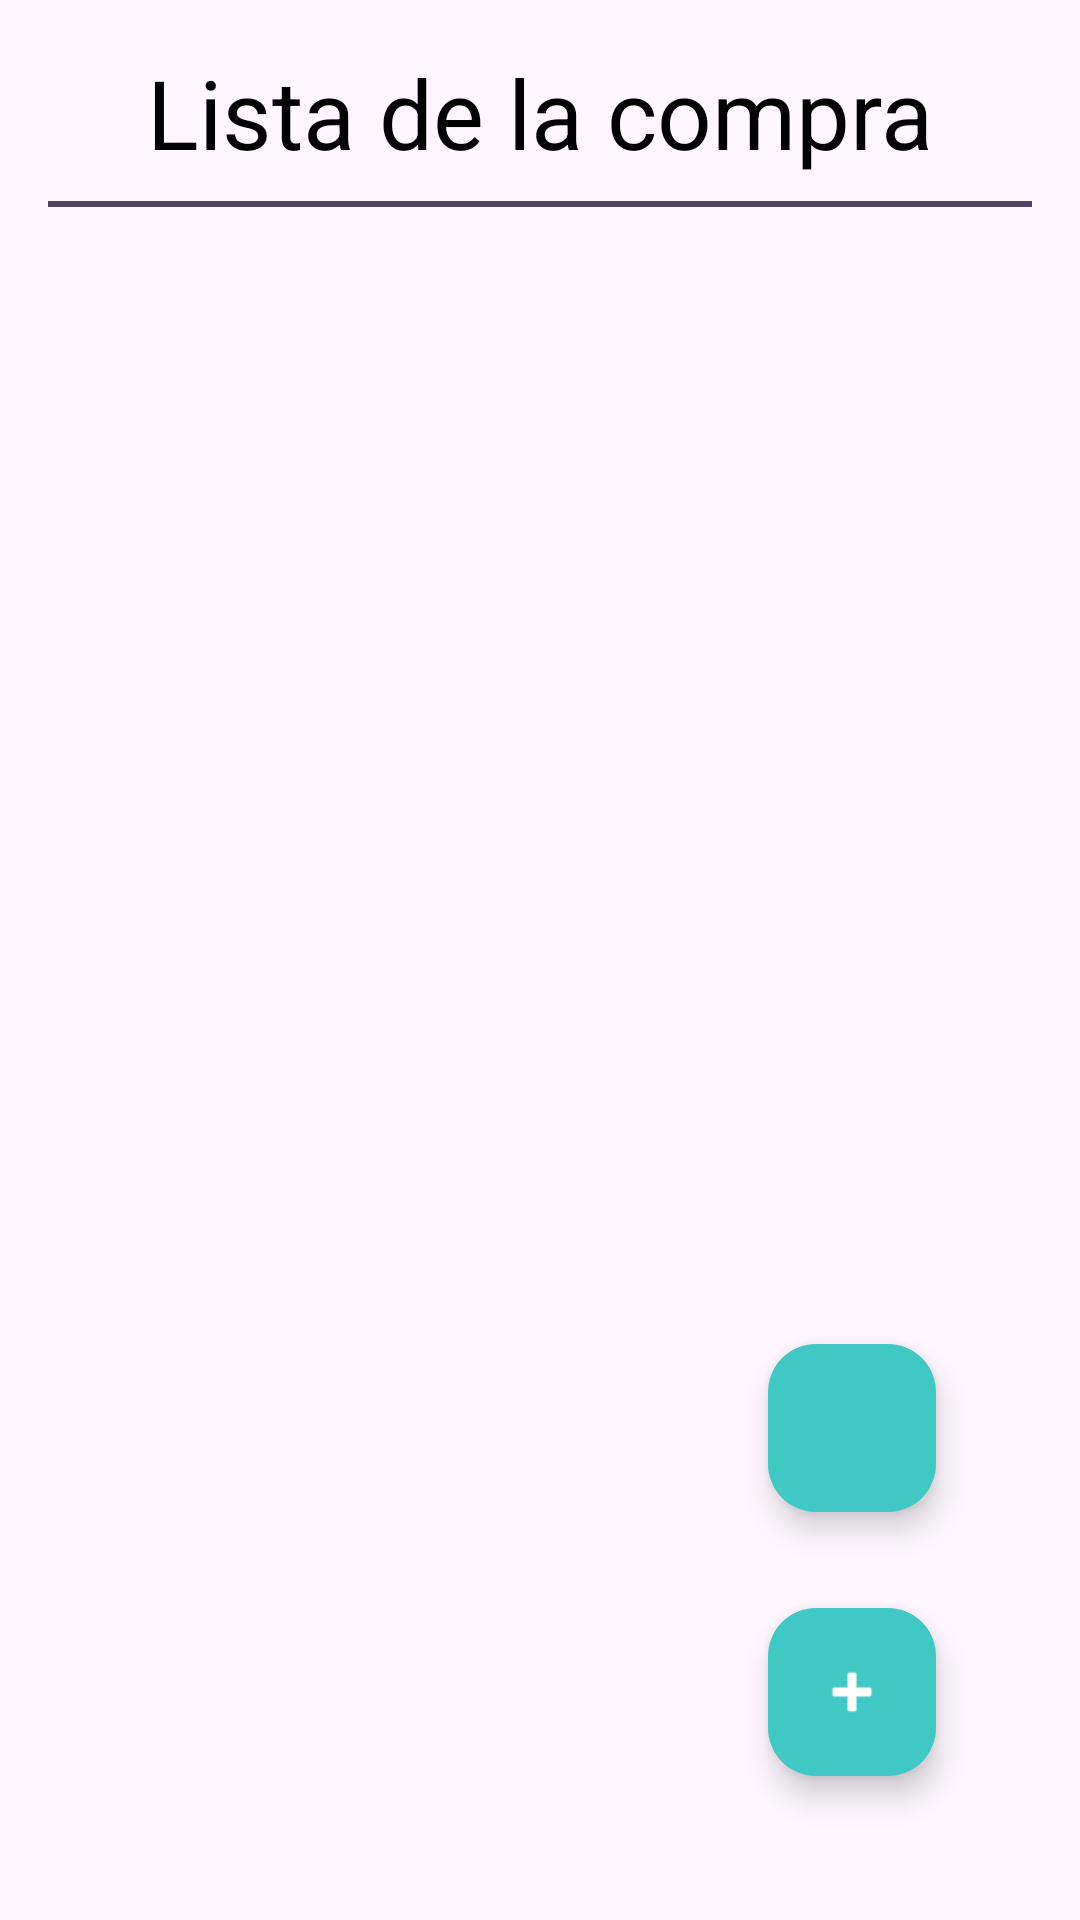

Where to tap for icons on this 1080 x 1920 app screen, as [x,y]:
add: [852,1692]
